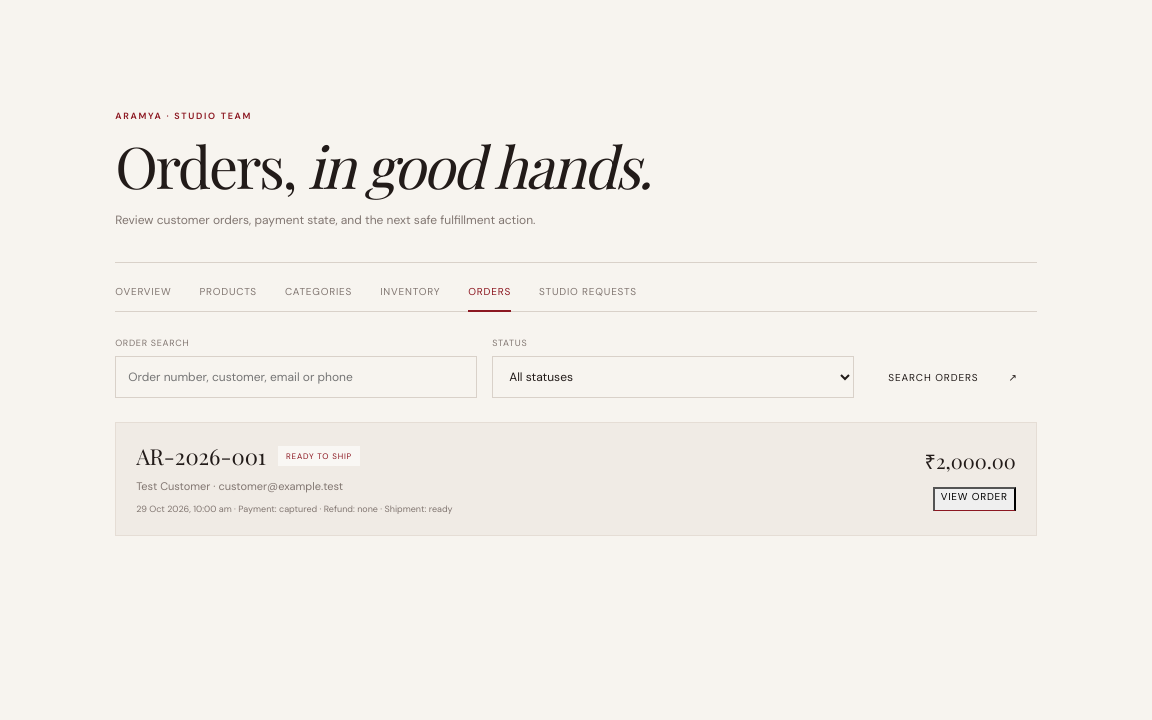
Scenario: admin order workflow › loads real order details and ships only with reason, carrier, tracking, and CSRF
The width and height of the screenshot is (1152, 720).
Check: the heading "AR-2026-001" is shown, box x1=136 y1=441 x2=266 y2=471
Check: the text "Payment: captured" is shown, box x1=136 y1=503 x2=453 y2=515
Click the button "View order". click: {"x": 974, "y": 499}
box: x1=933 y1=487 x2=1016 y2=511
(page scrolled)
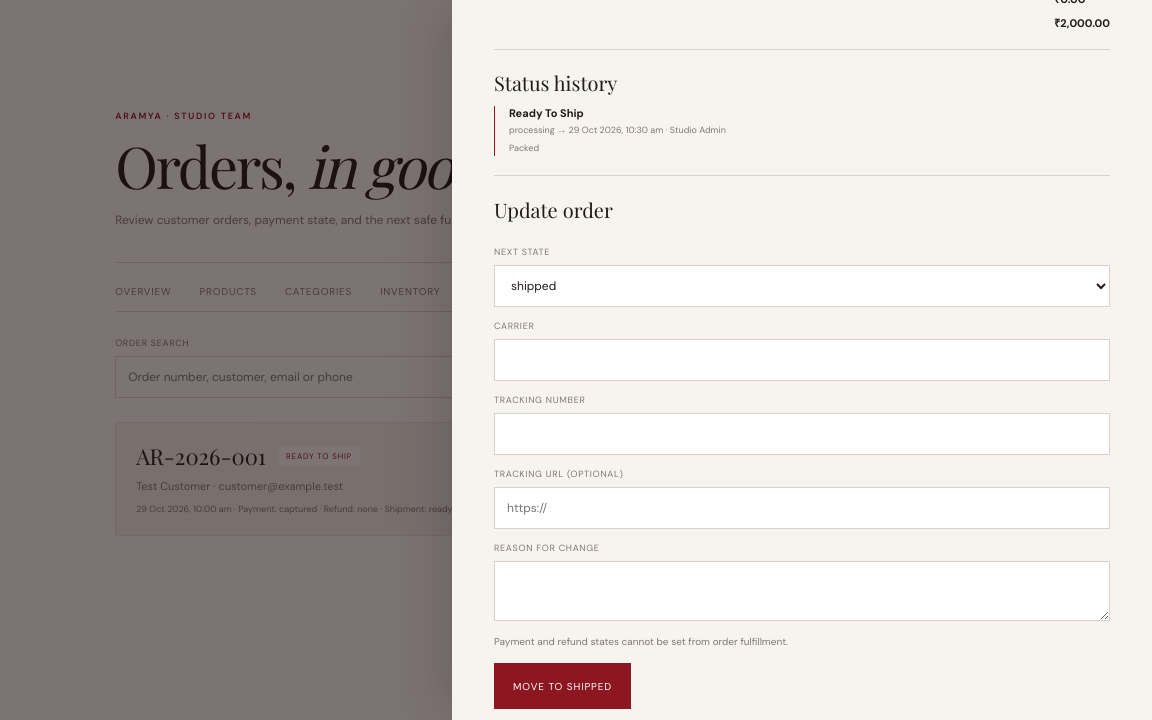
Type "Aramya Logistics" into the field labelled "Carrier". click: {"x": 802, "y": 360}
box: x1=494 y1=339 x2=1110 y2=381
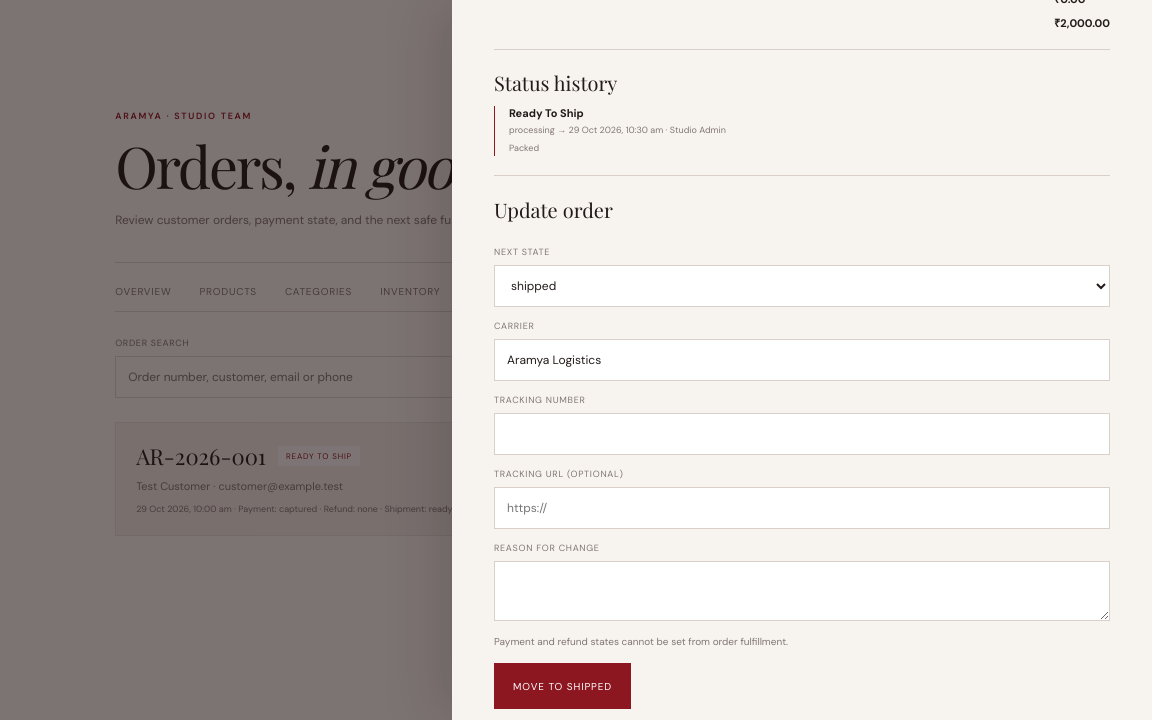
Type "TRK-123" into the field labelled "Tracking number". click: {"x": 802, "y": 434}
box: x1=494 y1=413 x2=1110 y2=455
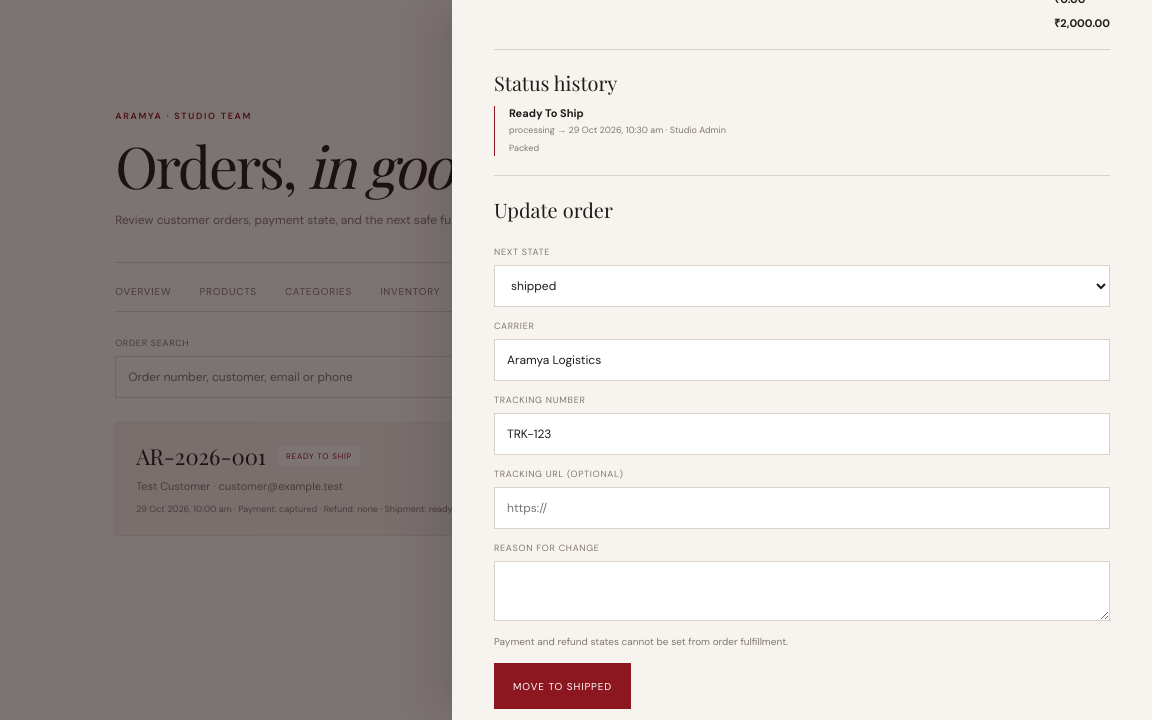
Type "https://track.example.test/TRK-123" into the field labelled "Tracking URL (optional)". click: {"x": 802, "y": 508}
box: x1=494 y1=487 x2=1110 y2=529
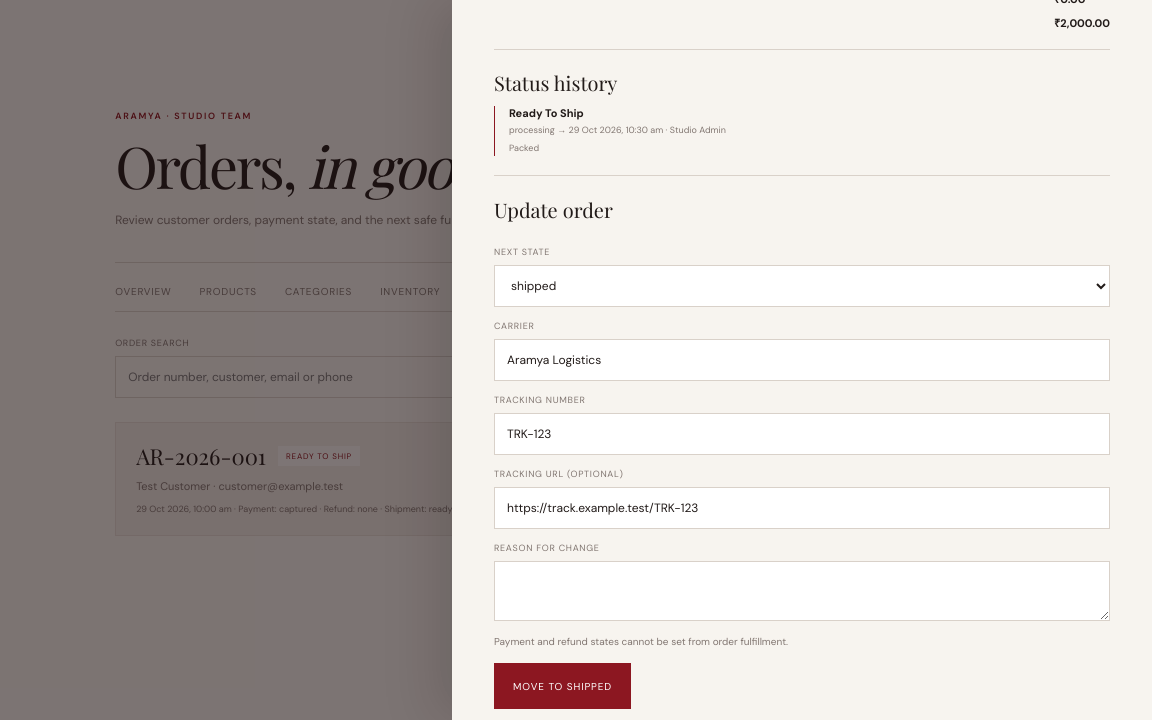
Type "Carrier collected parcel" into the text box labelled "Reason for change". click: {"x": 802, "y": 591}
box: x1=494 y1=561 x2=1110 y2=621
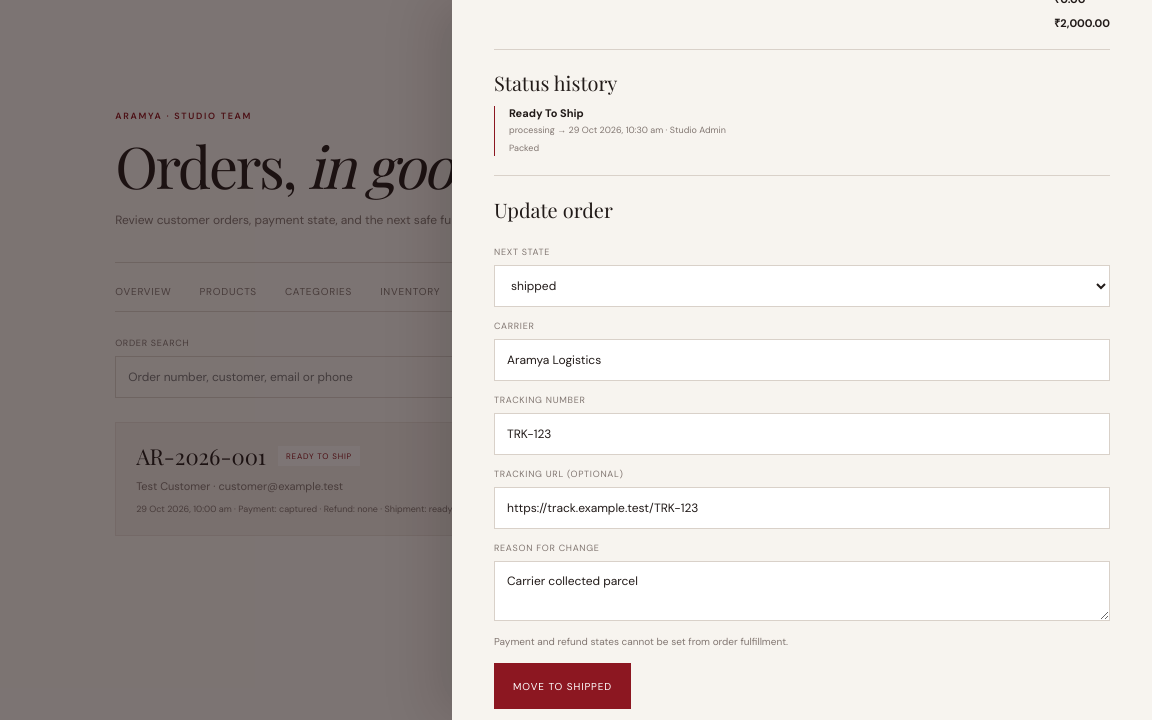
Click the button "Move to shipped". click: {"x": 563, "y": 686}
box: x1=494 y1=663 x2=631 y2=709
(page scrolled)
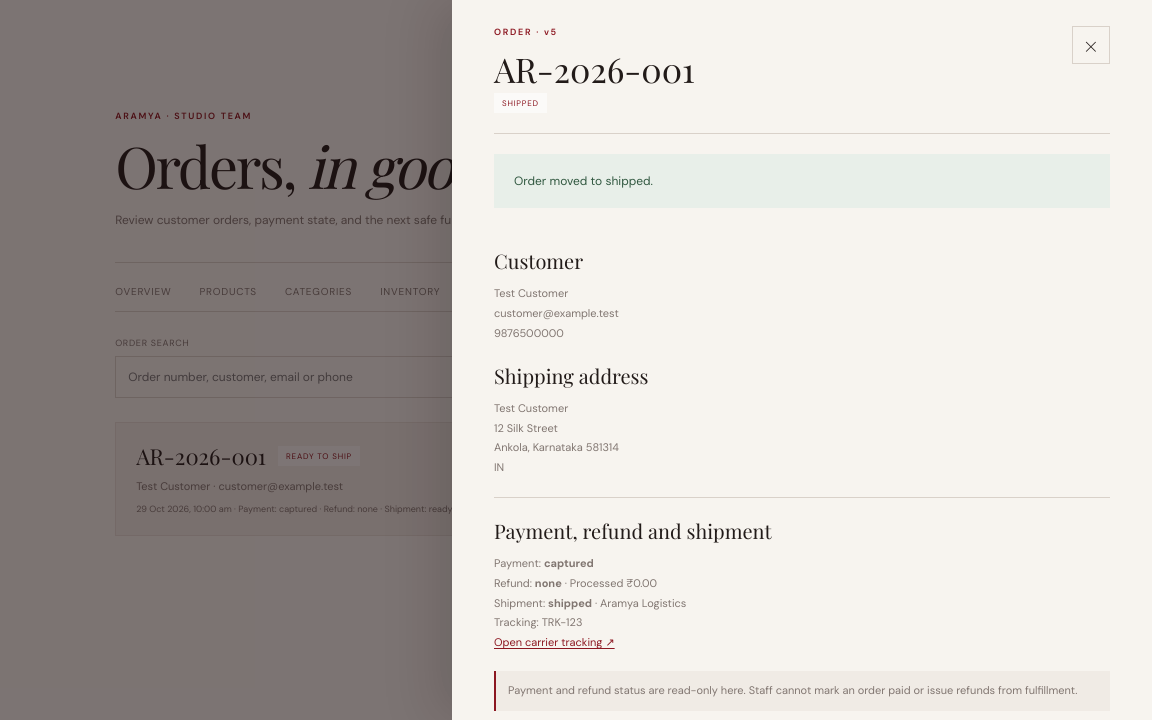
Check: the message reads "Order moved to shipped.", box x1=514 y1=173 x2=653 y2=189
